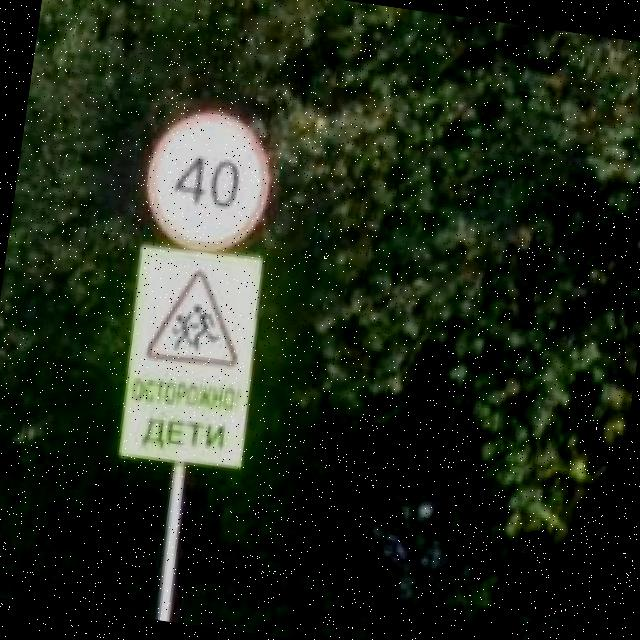Ograniczenie predkosci do 40: (136, 103, 280, 261)
